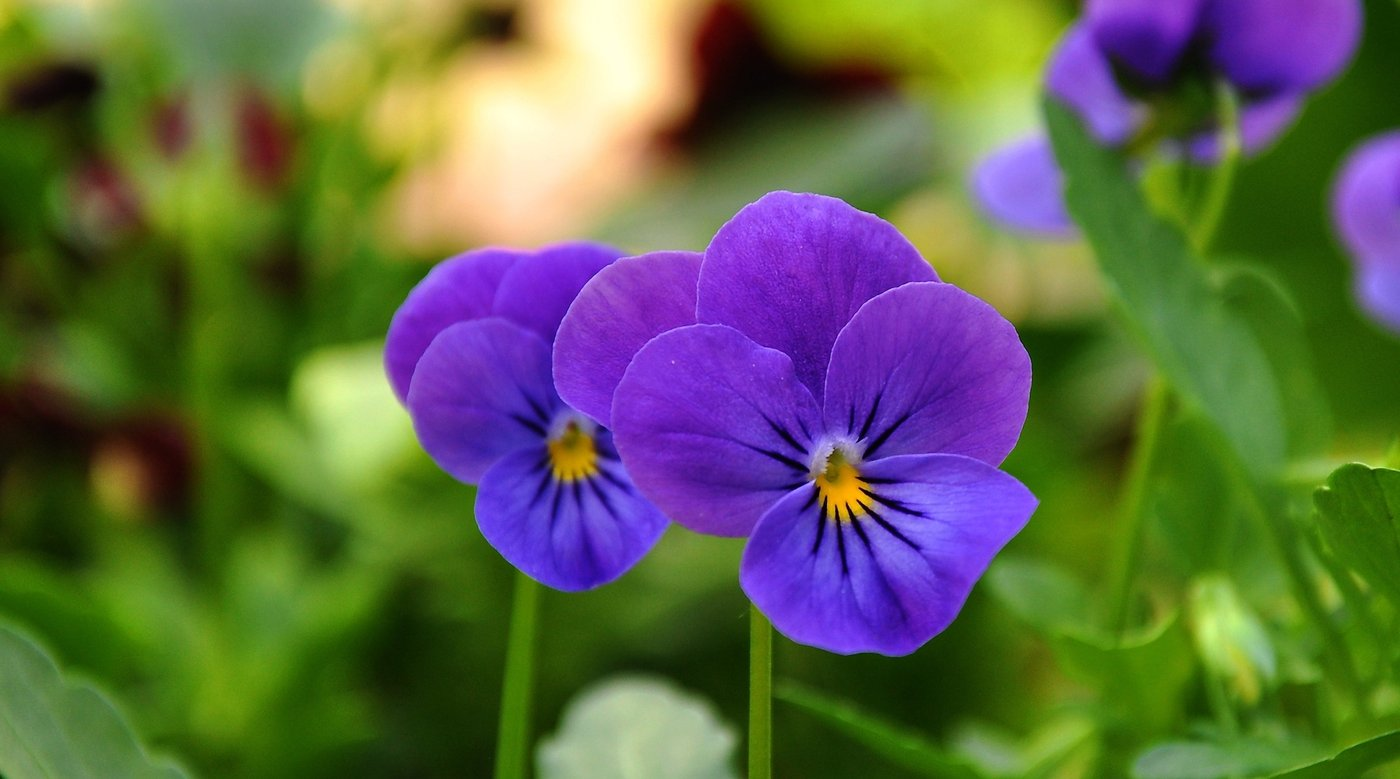violet: (584, 195, 1053, 644), (367, 243, 683, 598)
